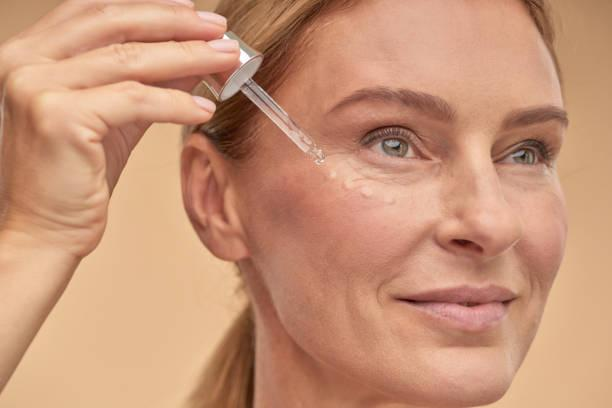Dry-Skin: (264, 174, 402, 324)
